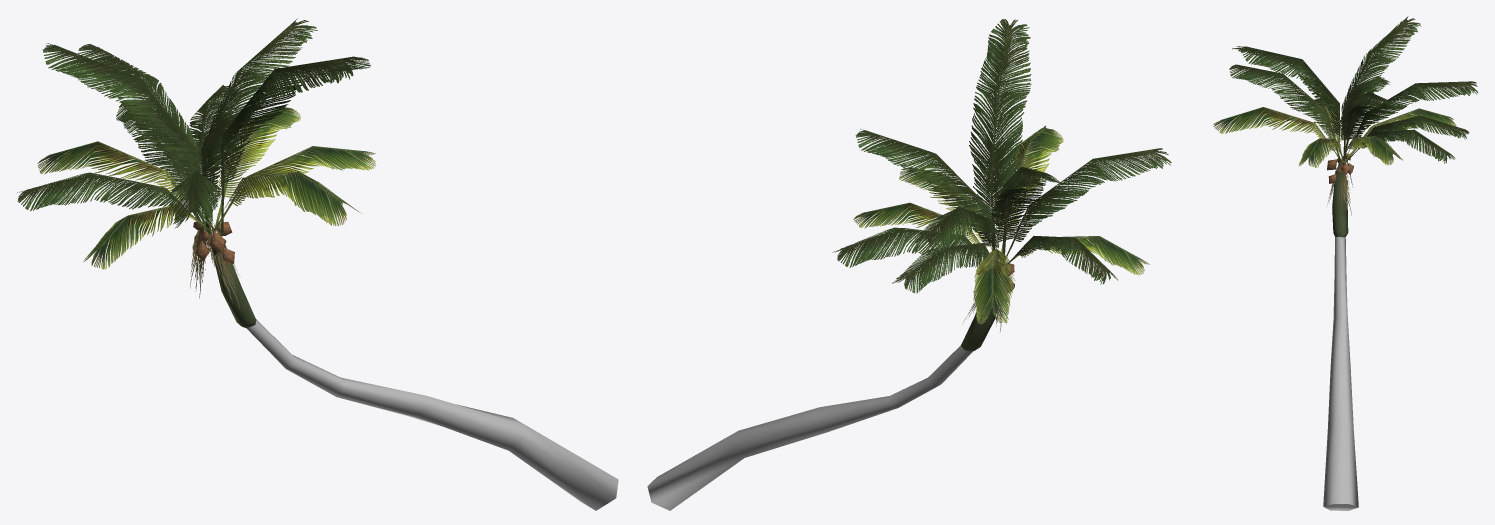
Rendered from kiV2_2s_LOD1.fbx.
The picture shows the model from 3 angles, left to right: view 1: azimuth 30°, elevation 25°; view 2: azimuth 150°, elevation 25°; view 3: azimuth 270°, elevation 25°; orthographic projection. The views are drawn at different scales.
Parts seen in each view (by area): view 1: kiV2_LOD1; view 2: kiV2_LOD1; view 3: kiV2_LOD1.
Boxes of the visible parts, <box> form: kiV2_LOD1: <box>17,18,618,510</box>; kiV2_LOD1: <box>647,19,1171,510</box>; kiV2_LOD1: <box>1213,16,1478,510</box>.
Size of the model in its own units: 4010 by 3926 by 2614.
